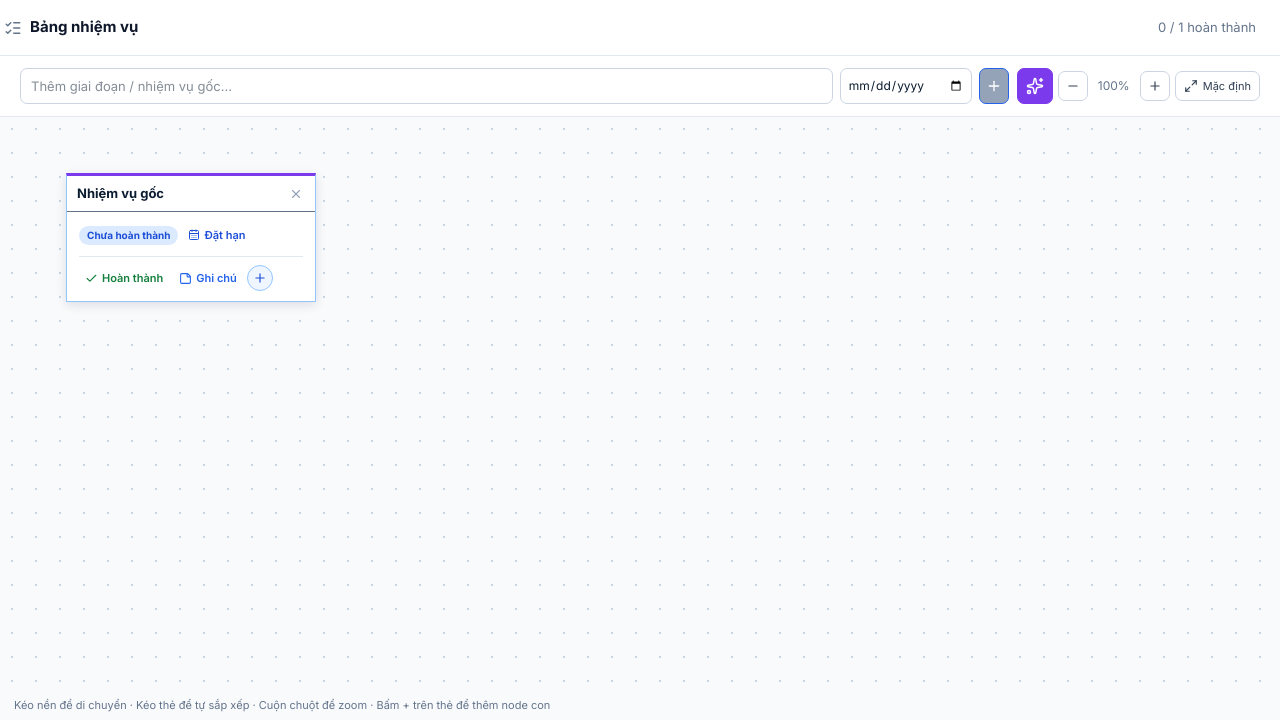
group task deadline lifecycle › keeps draft on save failure and supports retry
Click the button "Đặt hạn" at [217, 235], box x1=182 y1=222 x2=251 y2=248
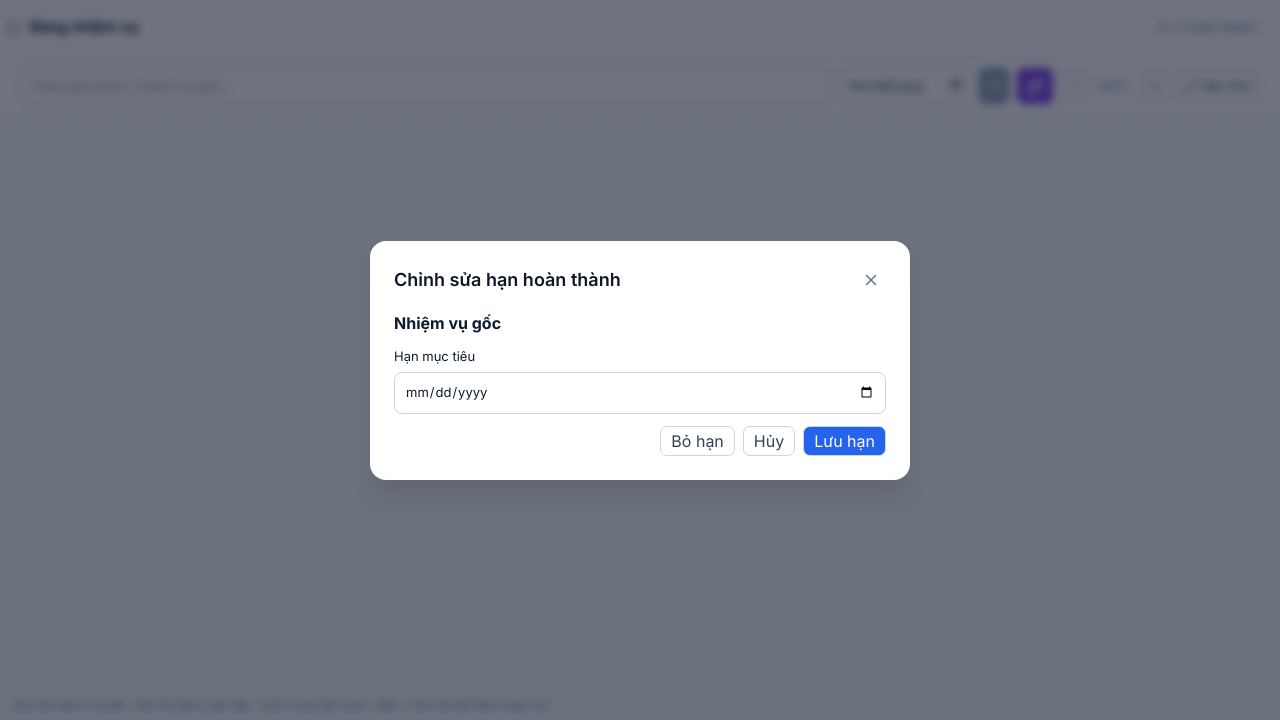
Type "2090-12-01" into the date field labelled "Hạn mục tiêu" at [640, 393], box x1=394 y1=372 x2=886 y2=414
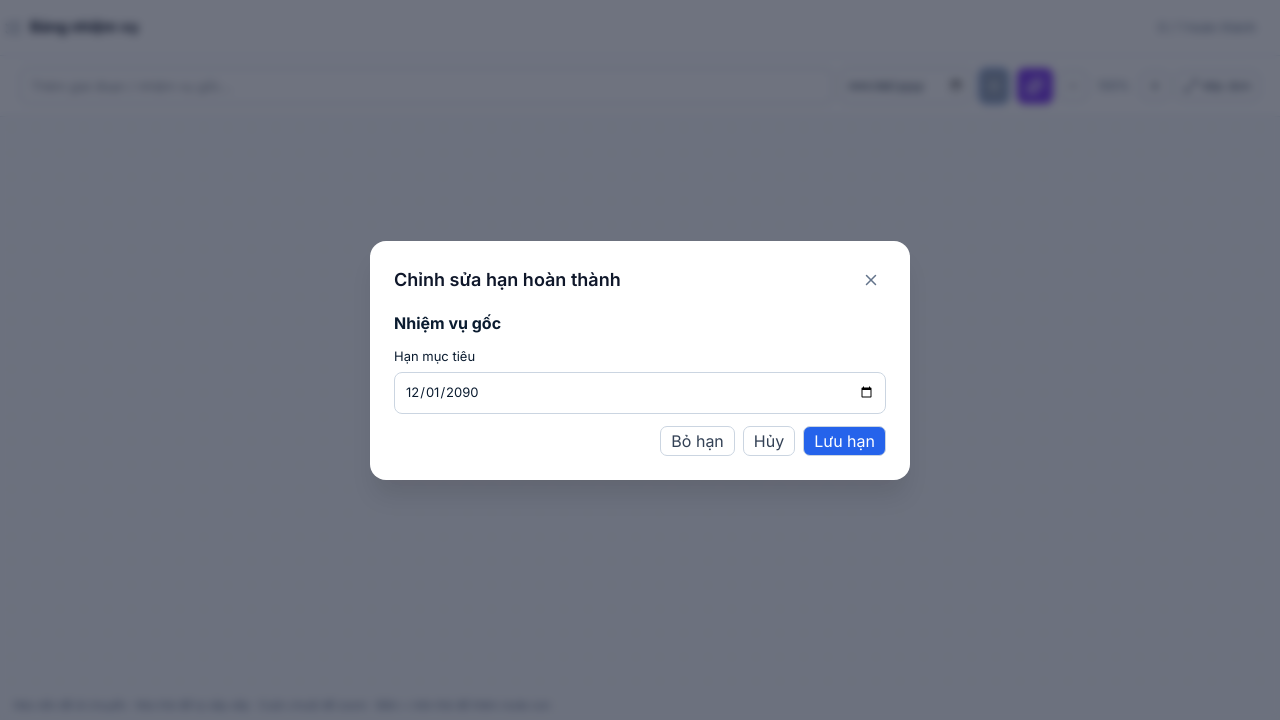
Click the button "Lưu hạn" at [845, 440], box x1=803 y1=426 x2=886 y2=456
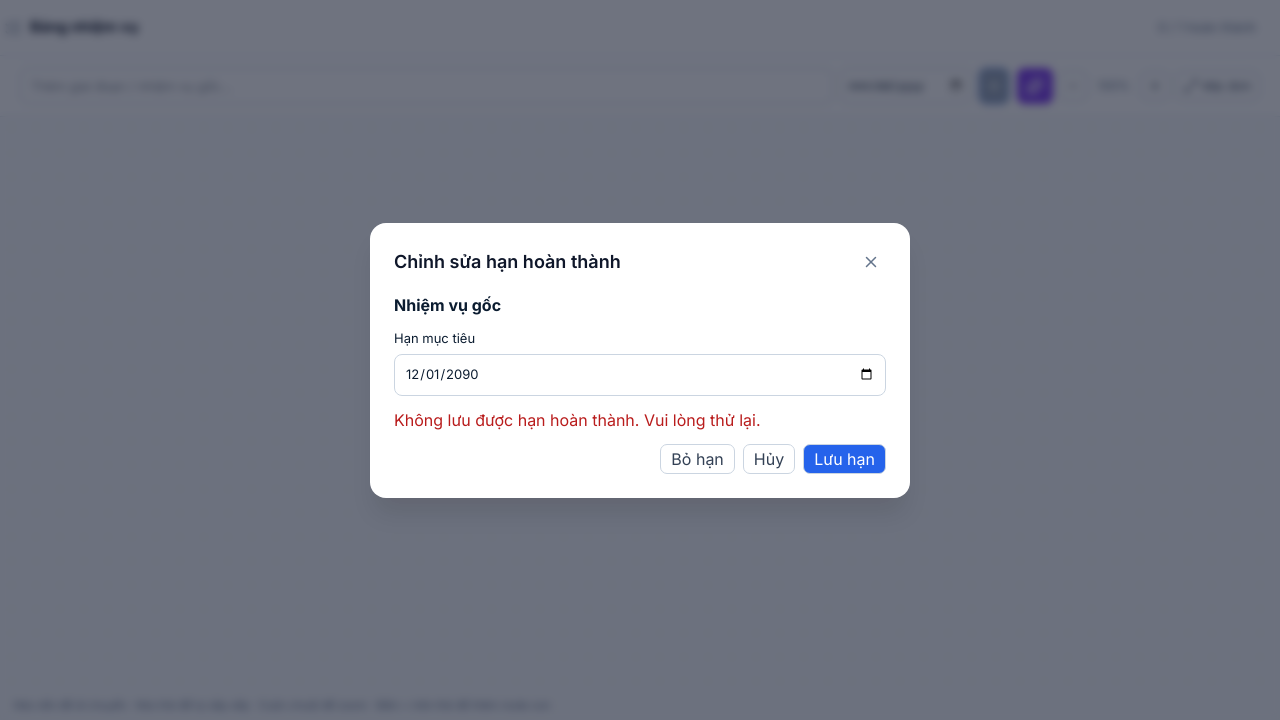
expect the text "Không lưu được hạn hoàn thành. Vui lòng thử lại." is shown: met, box x1=394 y1=410 x2=760 y2=430
Click the button "Lưu hạn" at [845, 458], box x1=803 y1=444 x2=886 y2=474
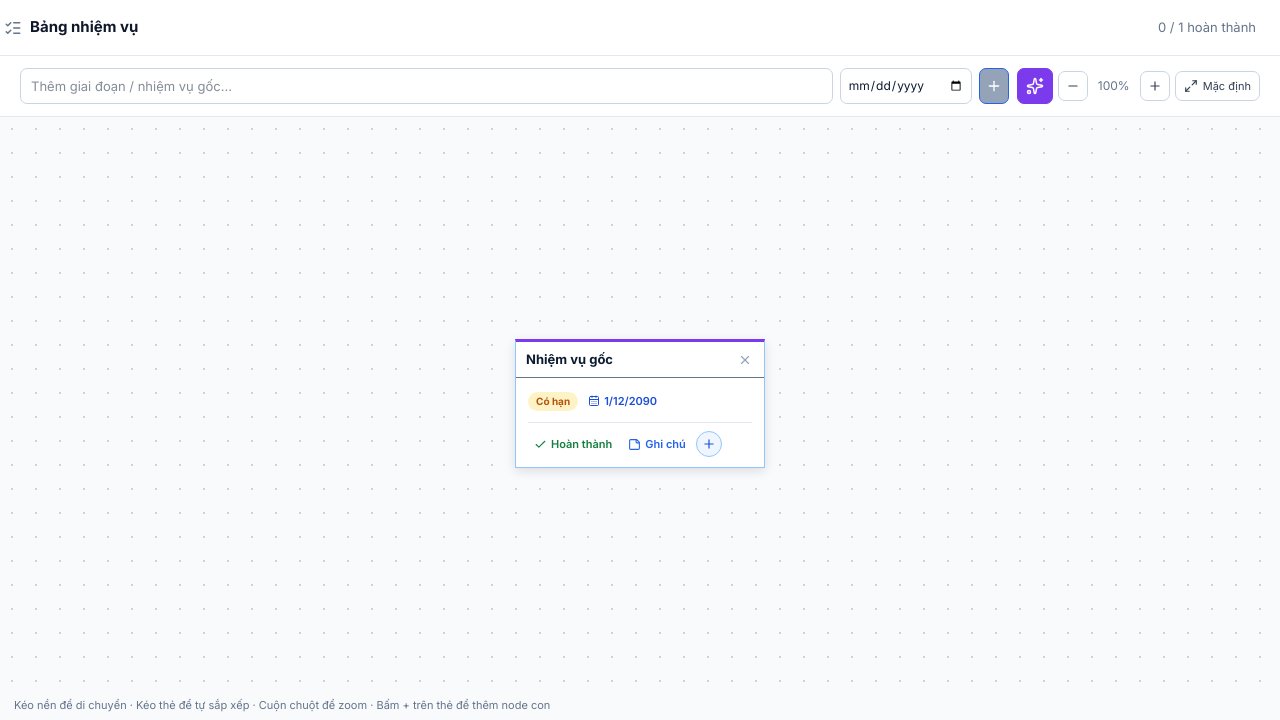
expect the label labelled "Hạn mục tiêu" is gone: met
